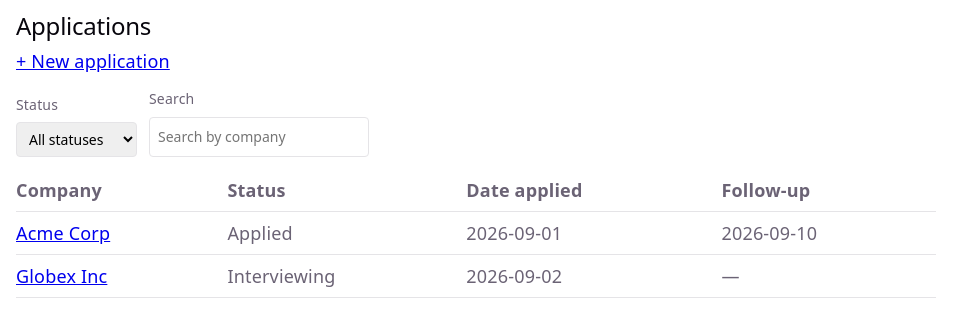
Test: ApplicationsListPage › filters by status
This screenshot has width=953, height=315.
Expected: the link "Acme Corp" is shown, [16,221,110,245]
Select "Interviewing" in the dropdown labelled "Status" at (76, 139), box [16,122,137,157]
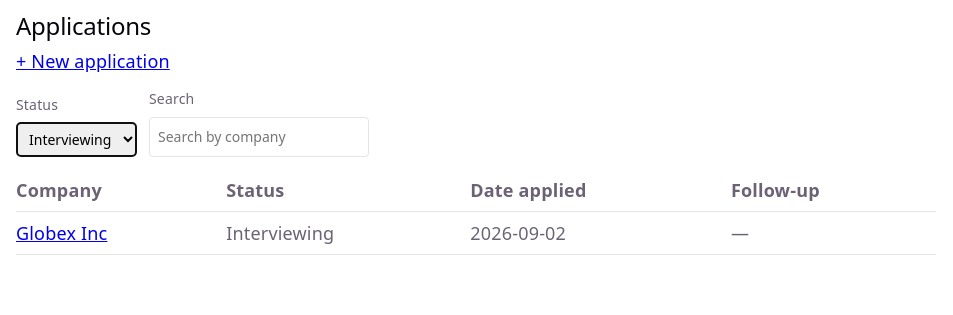
Expected: the link "Globex Inc" is shown, [16,221,107,245]
Expected: the link "Acme Corp" is gone
